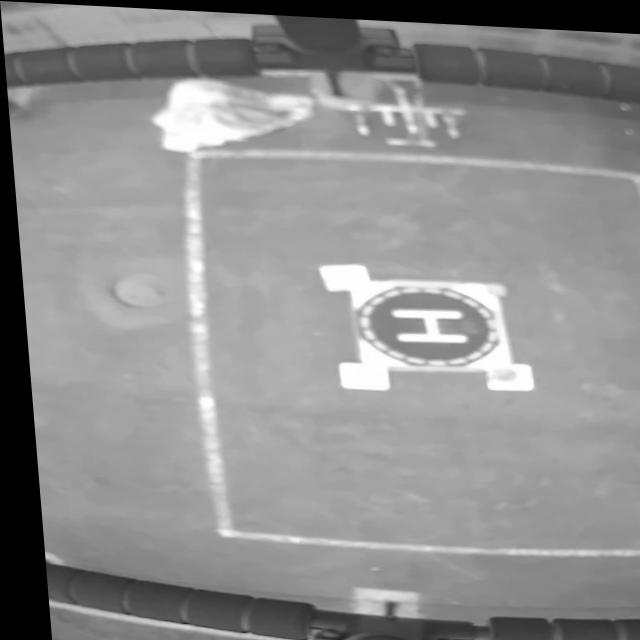Helipad: (386, 303, 464, 338)
